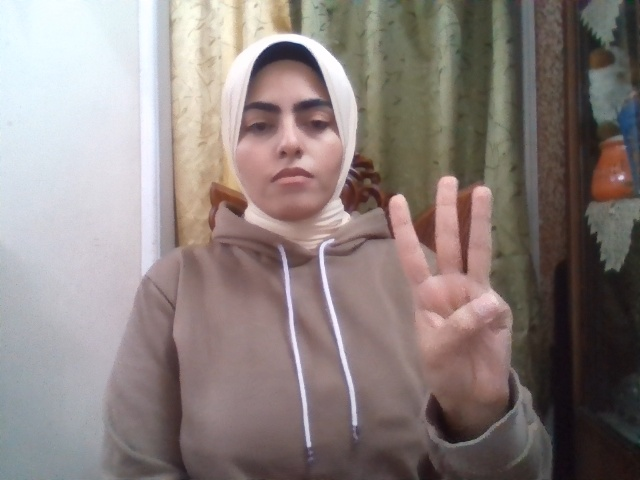W: (389, 176, 512, 405)
